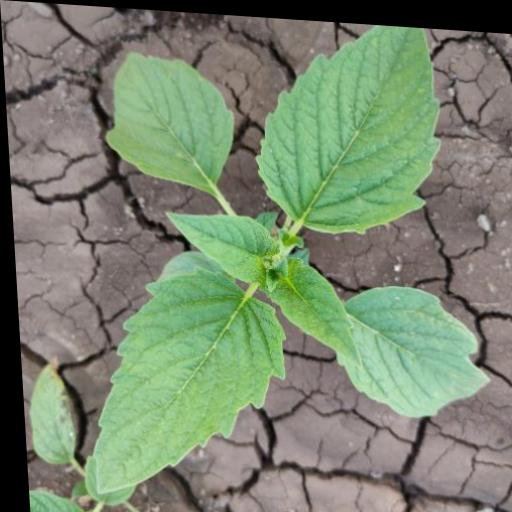crop: (64, 6, 494, 512)
